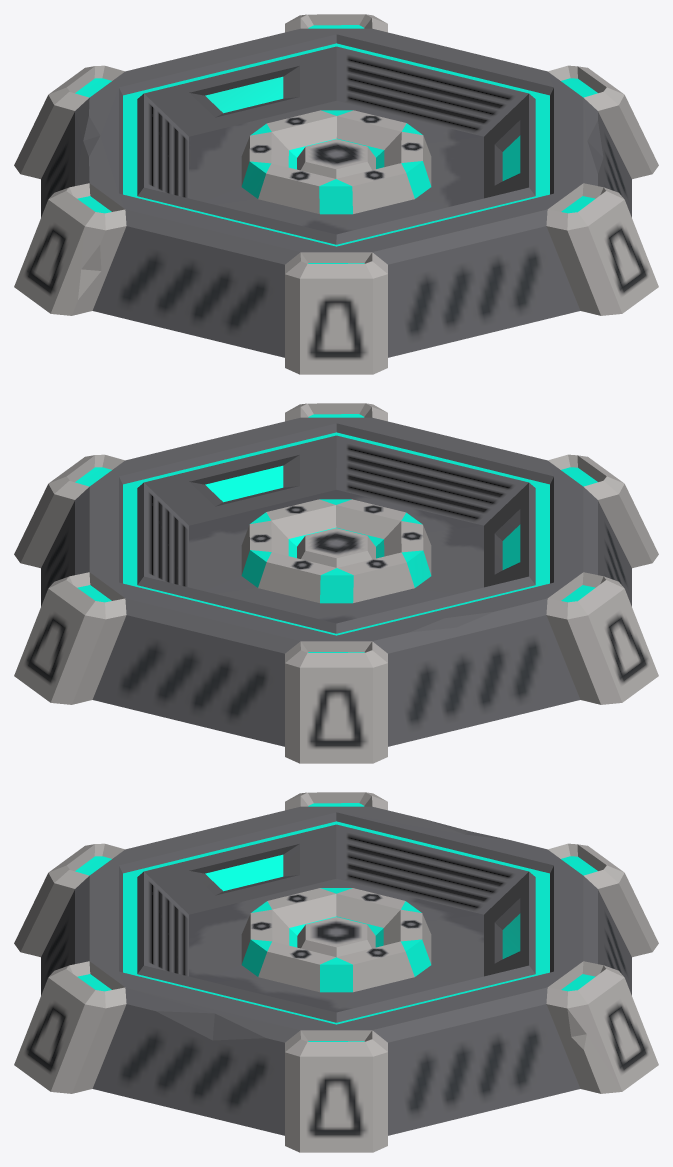
File: SM_Prop_Manholes_08.fbx
3 views of the same model, one above another, from view 1: azimuth 30°, elevation 25°; view 2: azimuth 150°, elevation 25°; view 3: azimuth 270°, elevation 25° (orthographic).
Visible parts, largest first — view 1: SM_Prop_Manholes_08; view 2: SM_Prop_Manholes_08; view 3: SM_Prop_Manholes_08.
Part boxes in pixels (bbox=[...]): SM_Prop_Manholes_08: bbox=[14, 14, 658, 374]; SM_Prop_Manholes_08: bbox=[14, 403, 658, 763]; SM_Prop_Manholes_08: bbox=[14, 792, 658, 1152].
Size of the model in its own units: 140 by 19.15 by 128.
